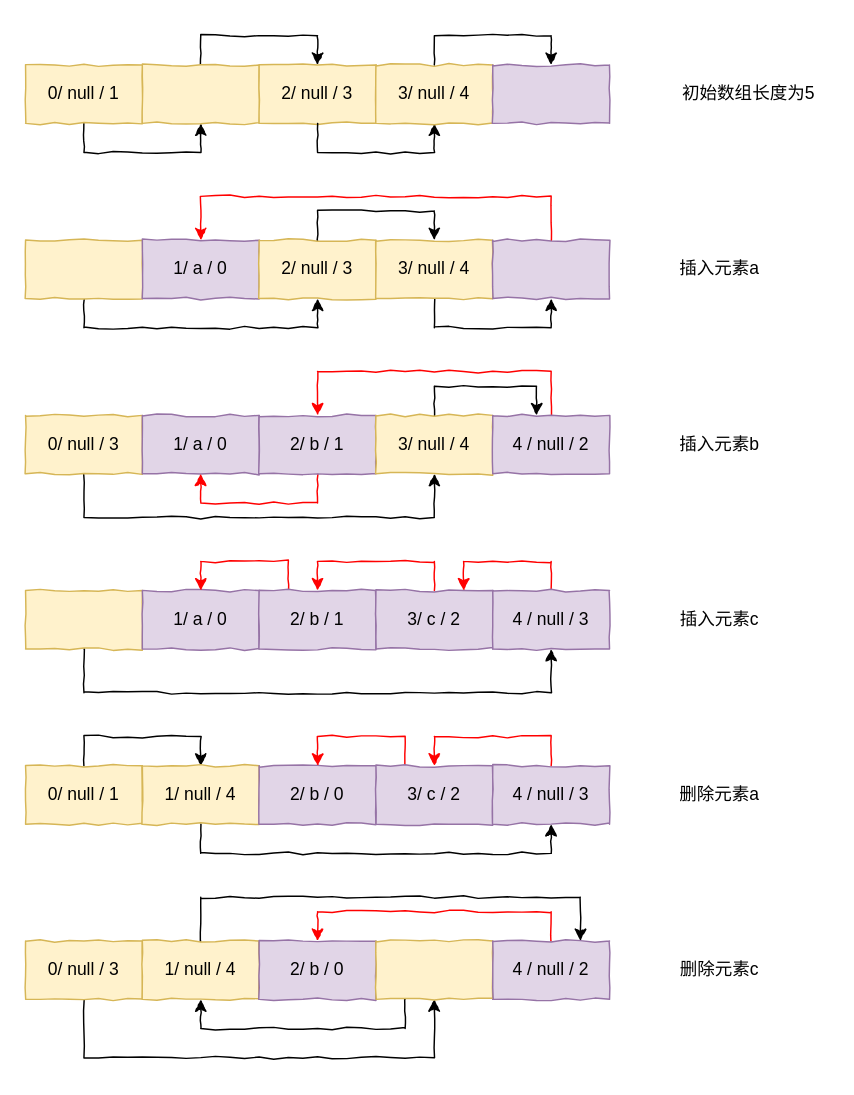
Some shapes in this 854 by 1095 pixel diagram are drawn without their labels. The box of each missing label's shape, as (x1, y1, x2, y2) in pixels:
0/ null / 2: (24, 239, 142, 299)
0/ null / 4: (24, 589, 142, 649)
1/ null / 2: (141, 64, 259, 123)
3/ null / 1: (374, 940, 493, 999)
4 / null / 0: (491, 64, 610, 123)
4 / null / 1: (491, 239, 610, 299)
